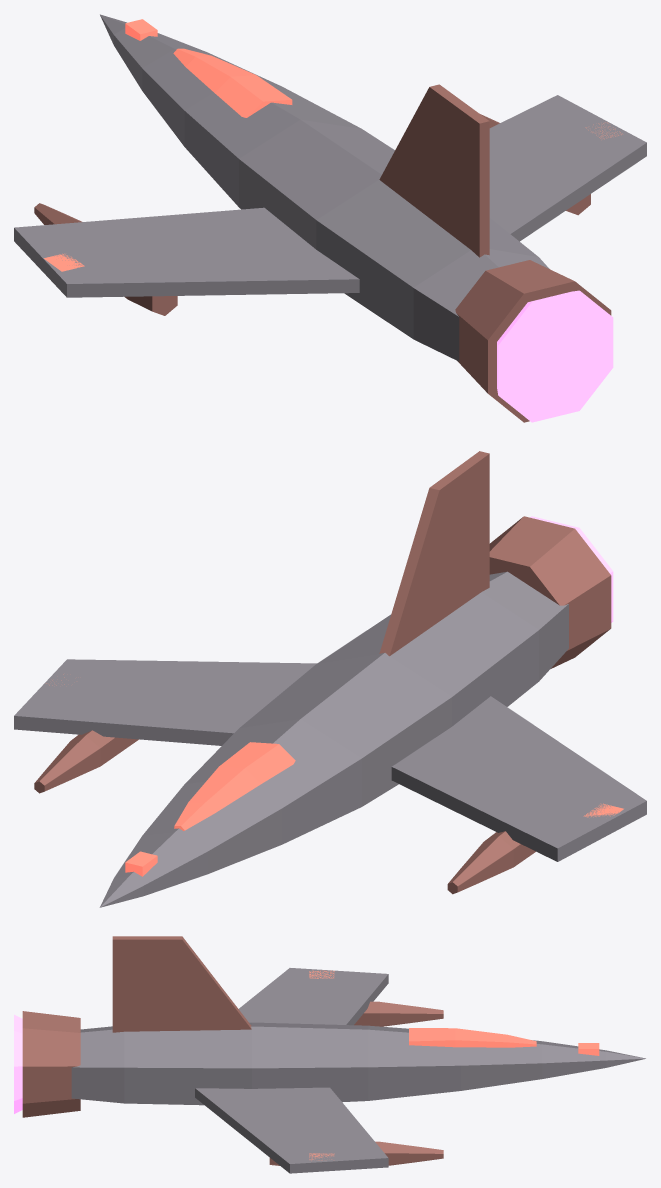
Rendered from raider.glb.
3 renders of one model, top to bottom at view 1: azimuth 30°, elevation 25°; view 2: azimuth 150°, elevation 25°; view 3: azimuth 270°, elevation 25°, orthographic. The views are drawn at different scales.
Visible parts, largest first — view 1: raider; view 2: raider; view 3: raider.
Part boxes in pixels (bbox=[...]): raider: bbox=[14, 14, 646, 422]; raider: bbox=[14, 451, 646, 907]; raider: bbox=[14, 936, 645, 1173].
Size of the model in its own units: 0.8 by 0.325 by 1.09.
